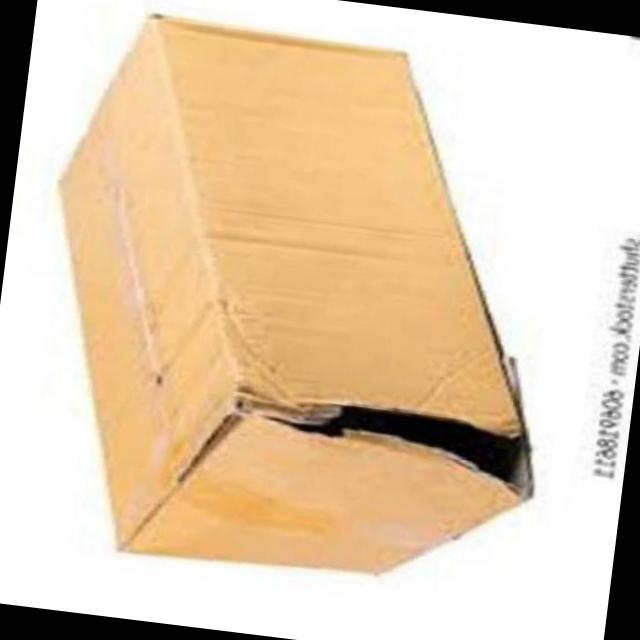box: (2, 0, 593, 613)
